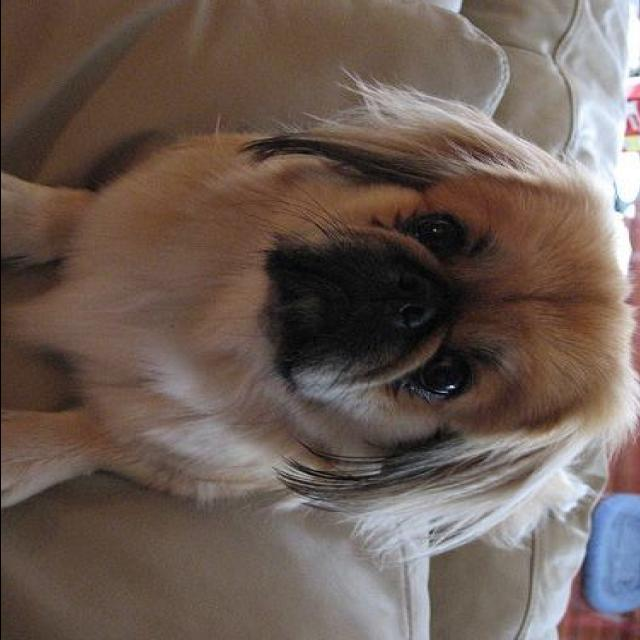pekinese: (3, 70, 640, 570)
